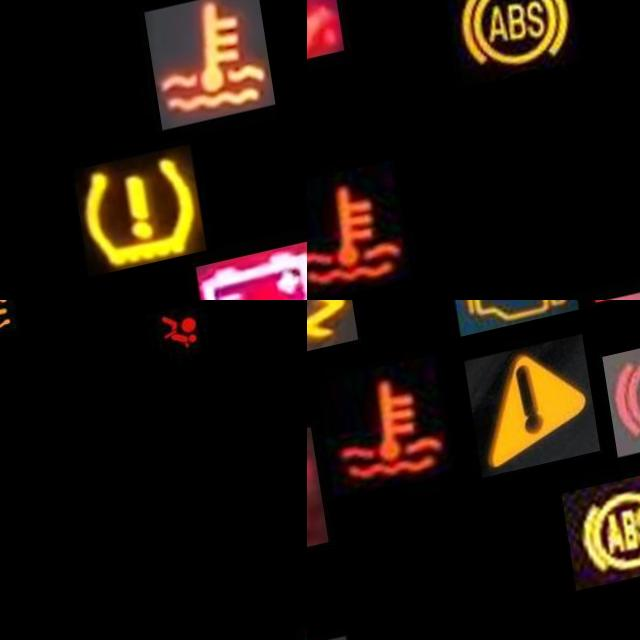Central Warning lamp: (459, 355, 591, 494)
Engine cooling system: (312, 369, 445, 508), (134, 0, 262, 138), (307, 167, 396, 300)
